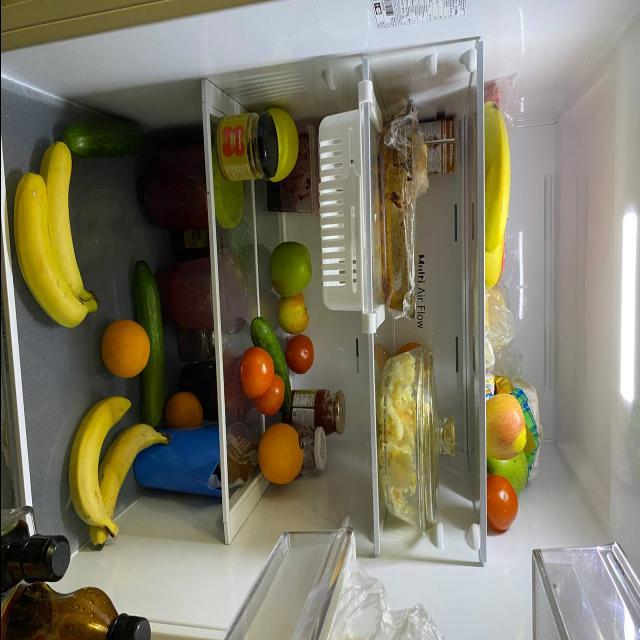Apple: (483, 387, 529, 472), (484, 436, 535, 491), (270, 238, 311, 300), (278, 292, 315, 336)
Banana: (62, 375, 168, 553), (13, 137, 102, 331), (481, 98, 511, 294)
Cucumber: (133, 247, 168, 430), (63, 109, 154, 167), (245, 316, 294, 396)
Orange: (101, 308, 146, 386), (258, 420, 308, 490), (164, 381, 203, 435)
Tomato: (481, 465, 523, 539), (250, 368, 280, 426), (238, 350, 274, 394), (285, 332, 315, 378)
